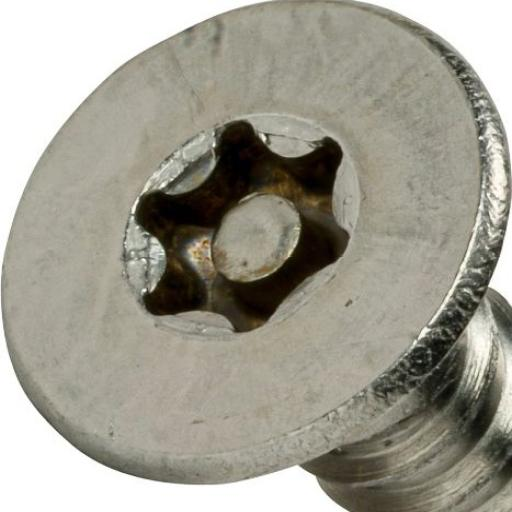Torx: (0, 2, 511, 512)
